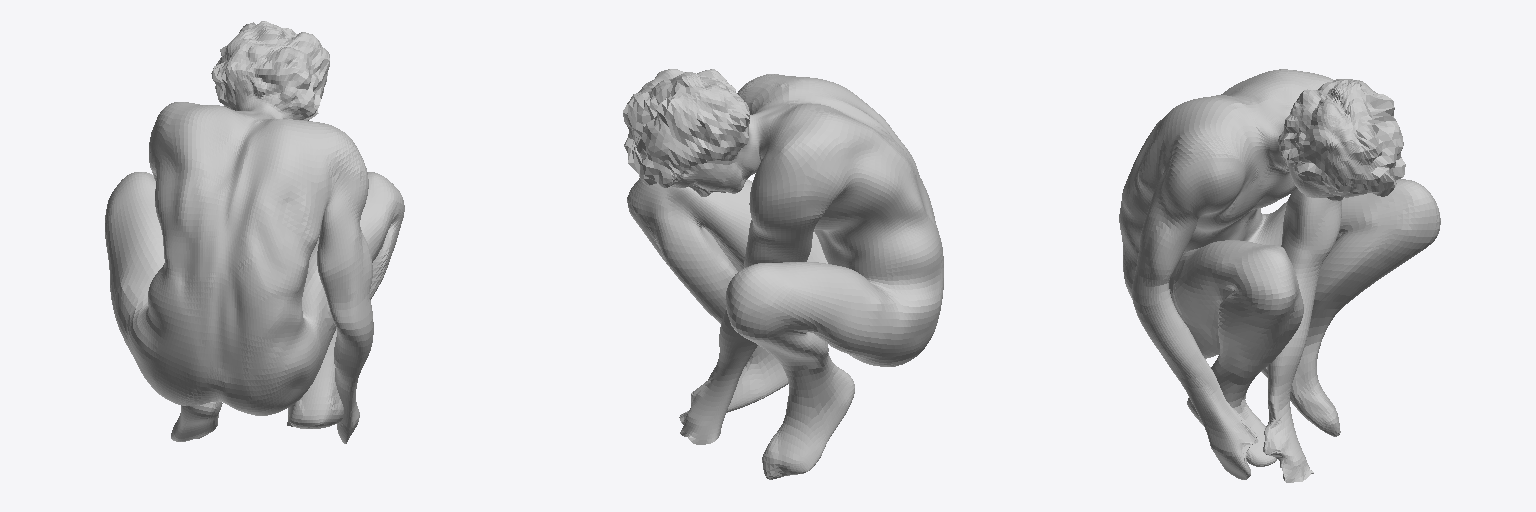
The model's file is Crouching Boy first export.OBJ.
3 renders of one model, left to right at view 1: azimuth 30°, elevation 25°; view 2: azimuth 150°, elevation 25°; view 3: azimuth 270°, elevation 25°, orthographic.
Visible parts, largest first — view 1: Group2; view 2: Group2; view 3: Group2.
Boxes of the visible parts, x1=… form: Group2: x1=105, y1=21, x2=404, y2=443; Group2: x1=623, y1=69, x2=943, y2=479; Group2: x1=1119, y1=69, x2=1440, y2=482.
Size of the model in its own units: 4.56 by 6.05 by 4.51.